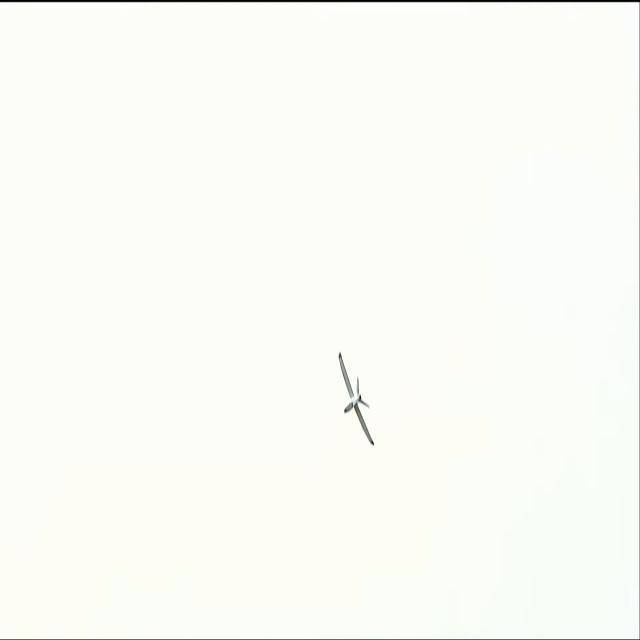iha: (338, 381, 376, 413)
